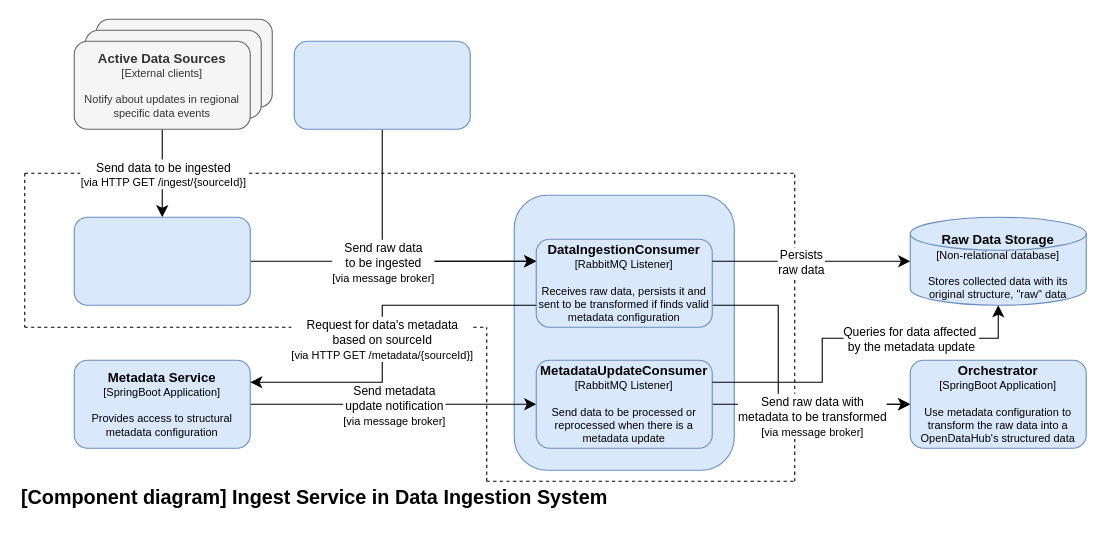
Some shapes in this 1106 by 534 pixel diagram are drawn without their labels. Each missing label, with the box of its shape:
Data Collectors [HTTP clients] Collects regional specific data periodically: (293, 40, 470, 129)
Ingest API [SpringBoot Module] HTTP API to receive requests for data ingestion: (73, 216, 250, 305)
Ingest Worker [SpringBoot Module]: (513, 194, 734, 470)
